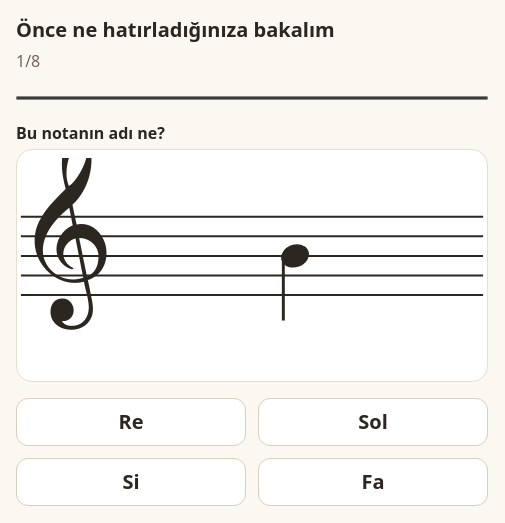
Test: Placement › giriş yazısı, sayaç; ipucu ve dinle düğmesi yok; doğru/yanlış gösterilmez
Expected: the heading "Önce ne hatırladığınıza bakalım" is shown, [16,16,335,43]
Expected: the text "1/8" is shown, [16,50,40,72]
Click the button "Re": [131, 422] box [16,398,246,446]
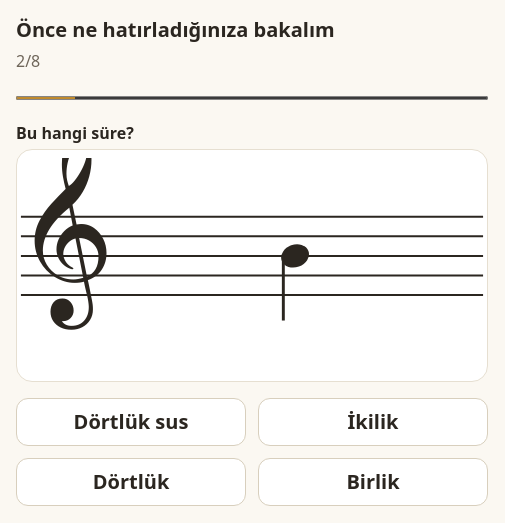
Now the text "2/8" is shown, box [16,50,40,72]
